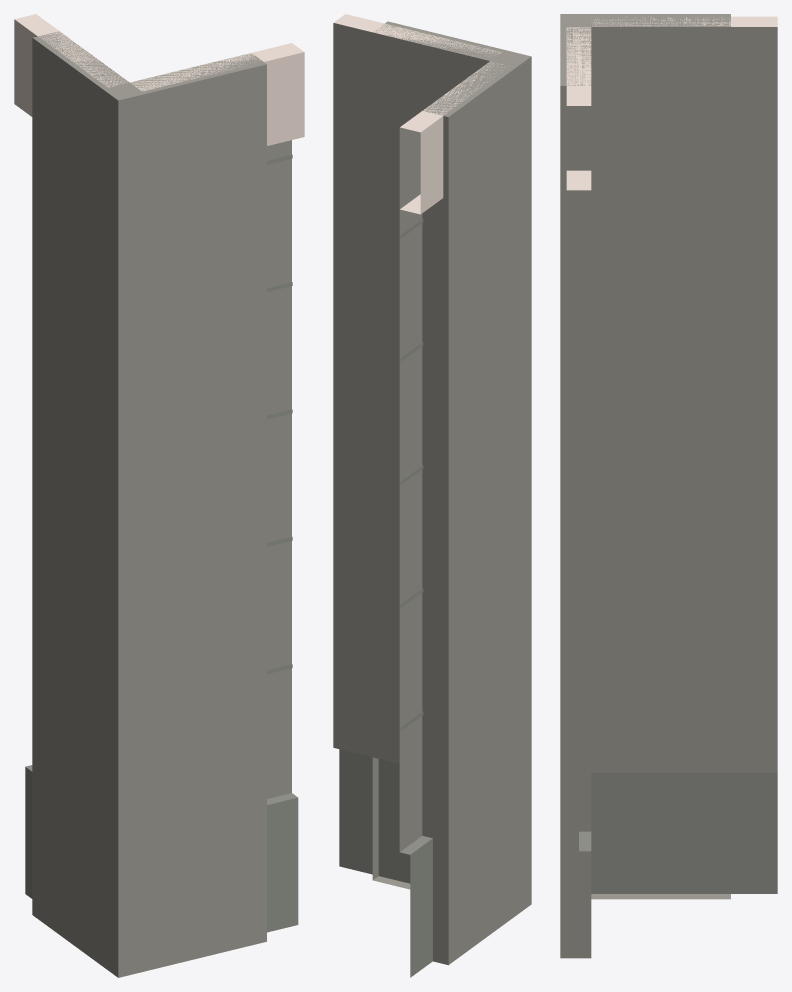
Rendered from base-c1_close.fbx.
3 renders of one model, left to right at view 1: azimuth 30°, elevation 25°; view 2: azimuth 150°, elevation 25°; view 3: azimuth 270°, elevation 25°, orthographic. The views are drawn at different scales.
Visible parts, largest first — view 1: a2001/800/base-c1_close; view 2: a2001/800/base-c1_close; view 3: a2001/800/base-c1_close.
Boxes of the visible parts, bbox=[...] form: a2001/800/base-c1_close: bbox=[14, 14, 304, 977]; a2001/800/base-c1_close: bbox=[333, 14, 531, 977]; a2001/800/base-c1_close: bbox=[560, 14, 777, 958].
Bounding box in the file's own units: 0.7 × 3.1 × 0.7.
